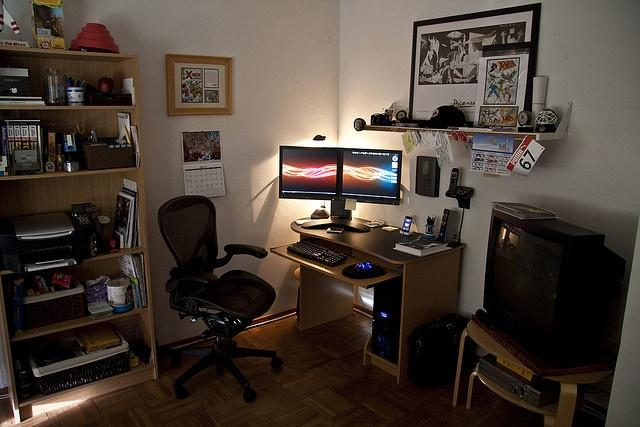AIO PC-Monitor-TV: (338, 147, 402, 206), (278, 144, 339, 201)
Kursi: (157, 194, 285, 403)
Meja: (289, 214, 466, 272)
Printer: (0, 207, 97, 273)
Rak: (0, 44, 159, 410)
